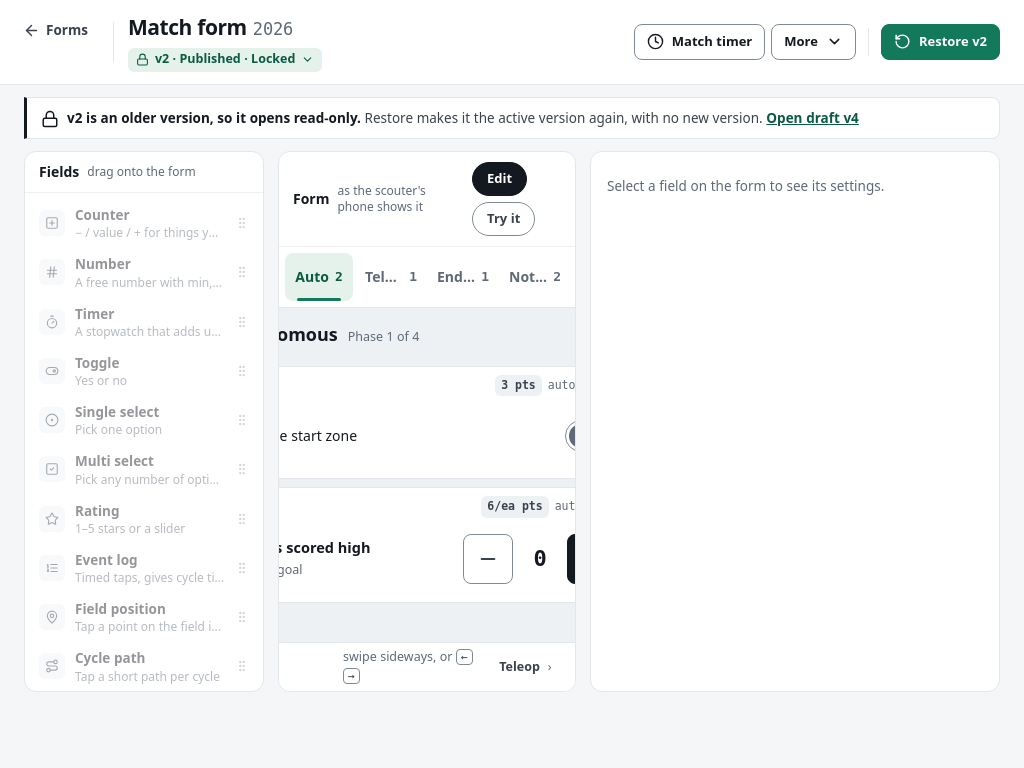
Test case: the More menu (task 1.31) › holds Edit as JSON on a read-only older version, saying why
The width and height of the screenshot is (1024, 768).
Check: the element "Form" is shown, box [278,151,576,692]
Click the button "More".
click(814, 42)  # box [771,24,856,60]
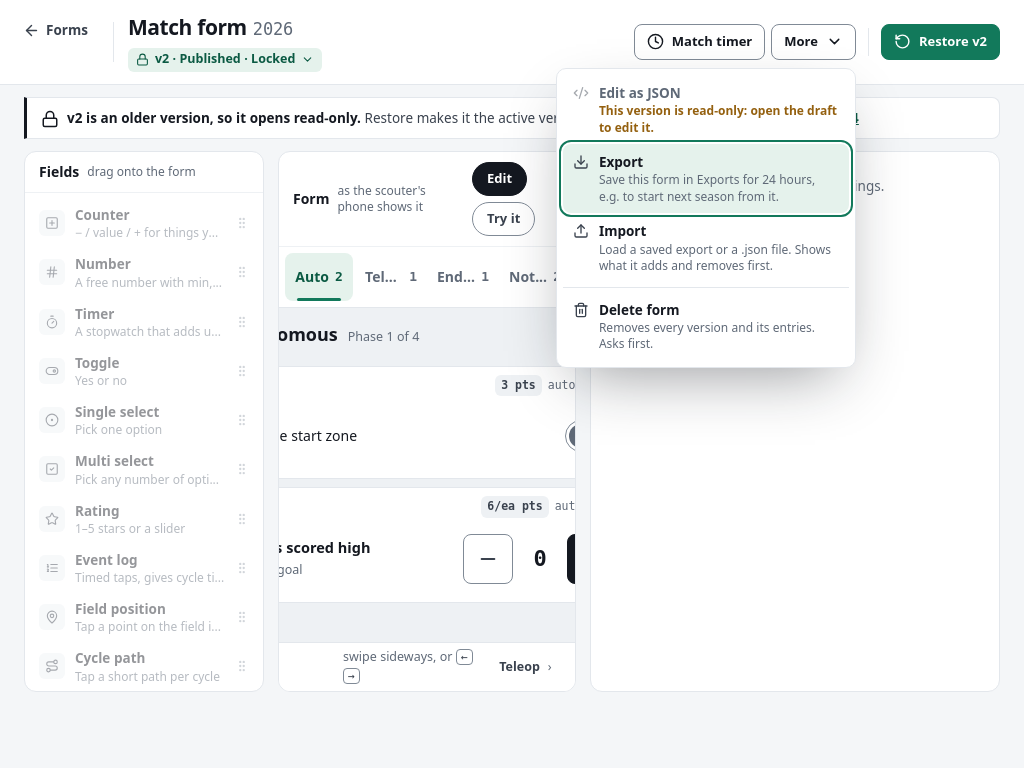
Check: the menu item "Edit as JSON" shows "This version is read-only", box [563,75,849,144]
